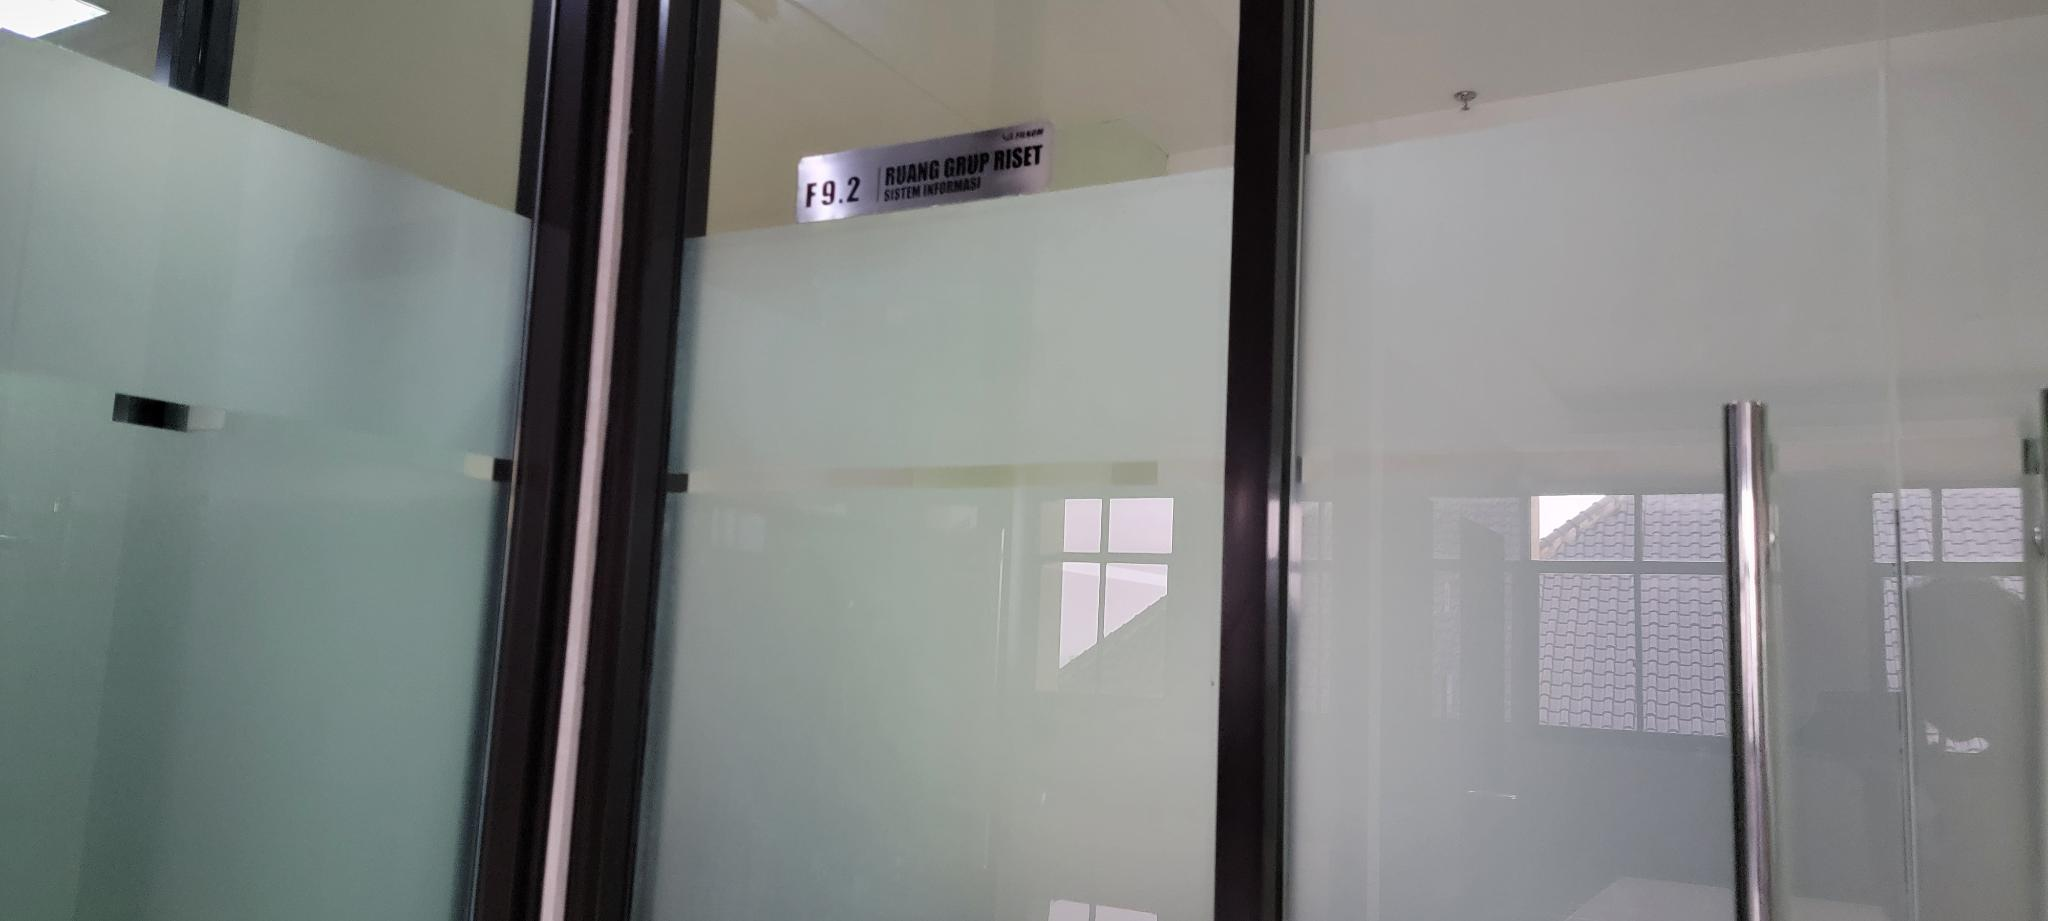plate: (792, 119, 1055, 229)
